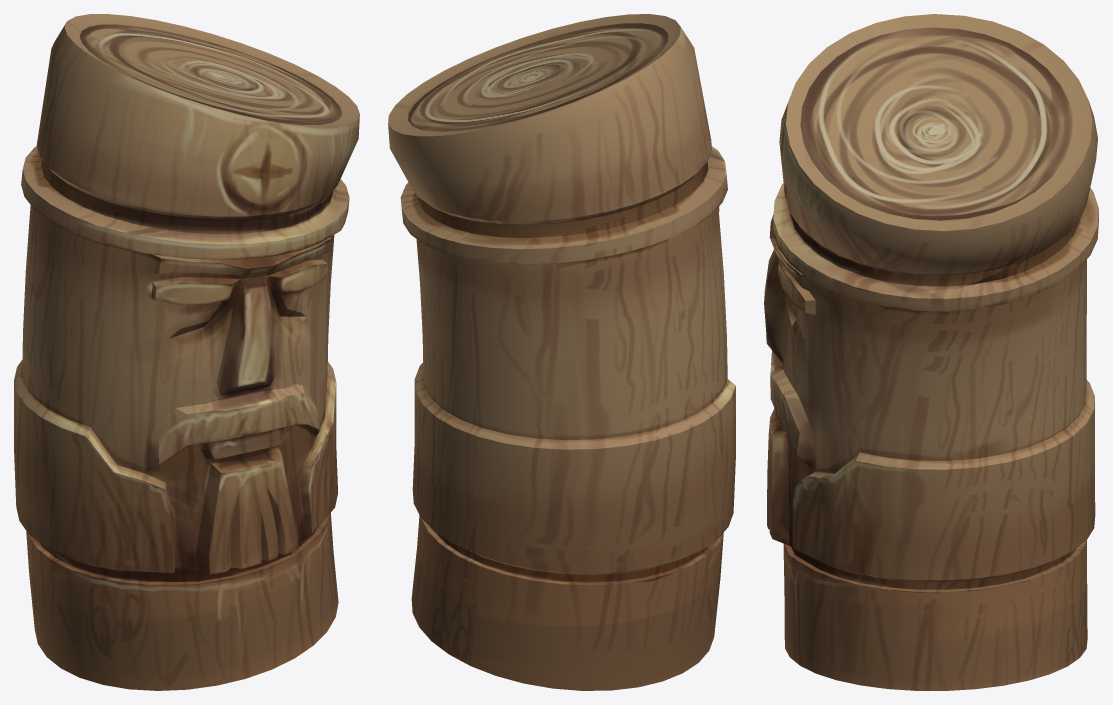
The model's file is Erik.fbx.
3 renders of one model, left to right at view 1: azimuth 30°, elevation 25°; view 2: azimuth 150°, elevation 25°; view 3: azimuth 270°, elevation 25°, orthographic.
Parts seen in each view (by area): view 1: Erik; view 2: Erik; view 3: Erik.
Boxes of the visible parts, <box> form: Erik: <box>14,14,359,690</box>; Erik: <box>388,14,735,690</box>; Erik: <box>764,14,1098,690</box>.
Size of the model in its own units: 79.77 by 151 by 76.71.
